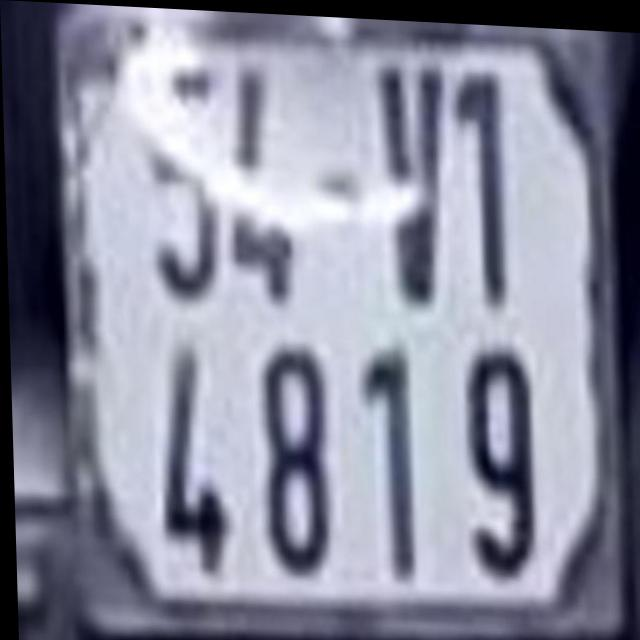1: (354, 334, 432, 576), (453, 61, 520, 304)
4: (153, 334, 239, 585), (229, 66, 294, 302)
5: (143, 61, 221, 300)
8: (258, 340, 335, 574)
9: (456, 341, 544, 577)
V: (375, 57, 451, 305)
